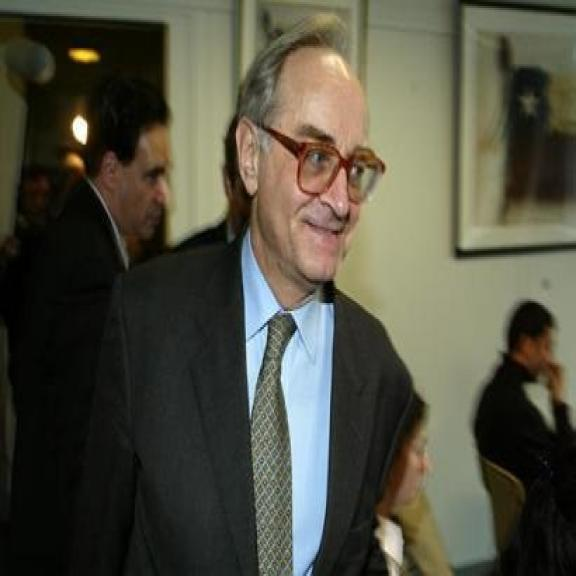face: (232, 48, 370, 284), (103, 108, 174, 241), (404, 400, 432, 516), (22, 169, 56, 222), (528, 320, 554, 378)
